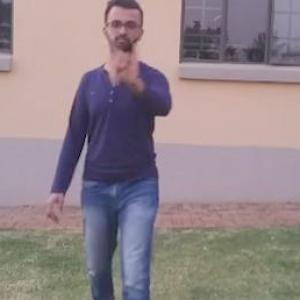takeoff-hand: (113, 37, 150, 88)
